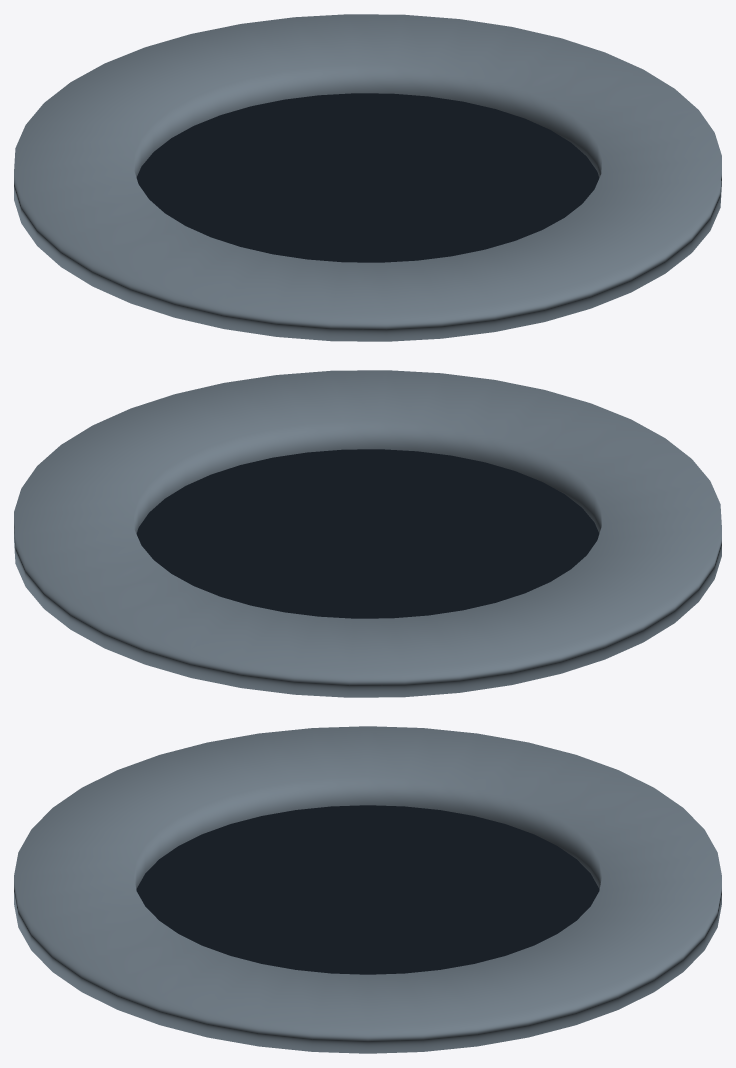
Rendered from unity.axial_hatch_b.glb.
3 renders of one model, top to bottom at view 1: azimuth 30°, elevation 25°; view 2: azimuth 150°, elevation 25°; view 3: azimuth 270°, elevation 25°, orthographic.
Parts seen in each view (by area): view 1: unity.axial_hatch_b.mesh_Machined_steel, unity.axial_hatch_b.mesh_Shadowed_interior; view 2: unity.axial_hatch_b.mesh_Machined_steel, unity.axial_hatch_b.mesh_Shadowed_interior; view 3: unity.axial_hatch_b.mesh_Machined_steel, unity.axial_hatch_b.mesh_Shadowed_interior.
Boxes of the visible parts, bbox=[...] form: unity.axial_hatch_b.mesh_Machined_steel: bbox=[14, 14, 721, 341]; unity.axial_hatch_b.mesh_Shadowed_interior: bbox=[136, 93, 599, 262]; unity.axial_hatch_b.mesh_Machined_steel: bbox=[14, 370, 721, 697]; unity.axial_hatch_b.mesh_Shadowed_interior: bbox=[136, 449, 599, 618]; unity.axial_hatch_b.mesh_Machined_steel: bbox=[14, 726, 721, 1053]; unity.axial_hatch_b.mesh_Shadowed_interior: bbox=[136, 805, 599, 974].
Bounding box in the file's own units: 2.94 × 0.22 × 2.94.
